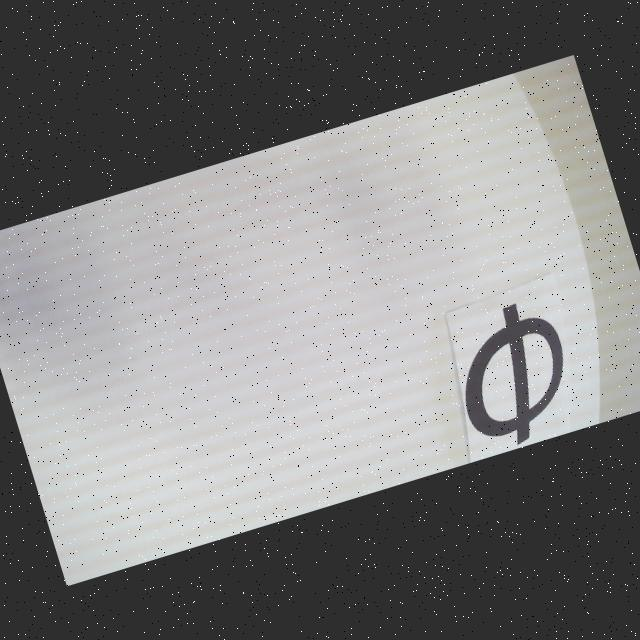PHI: (441, 294, 586, 456)
